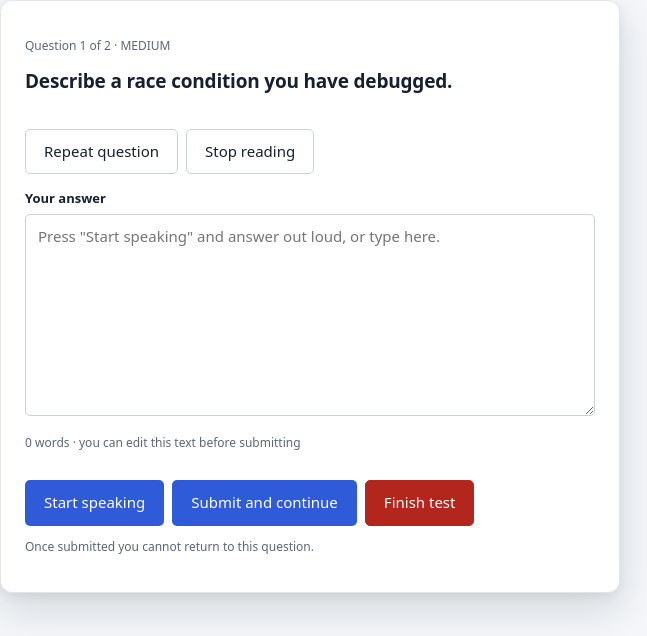
QuestionPanel — reading the question aloud › offers a stop control only while speaking, and it cancels
This screenshot has width=647, height=636.
Click the button "Stop reading" at (250,152), box x1=186 y1=129 x2=314 y2=174
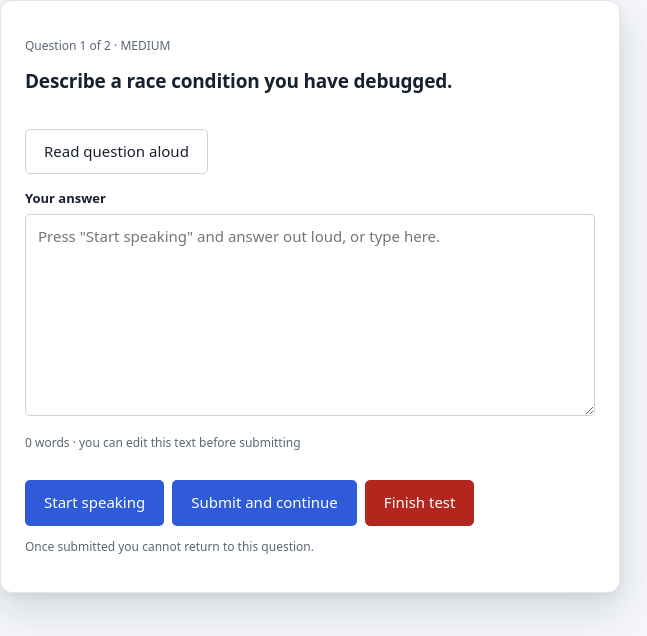
Expected: the button "Stop reading" is gone
